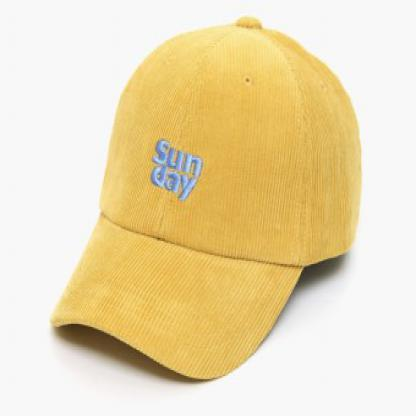cap: (44, 6, 370, 388)
